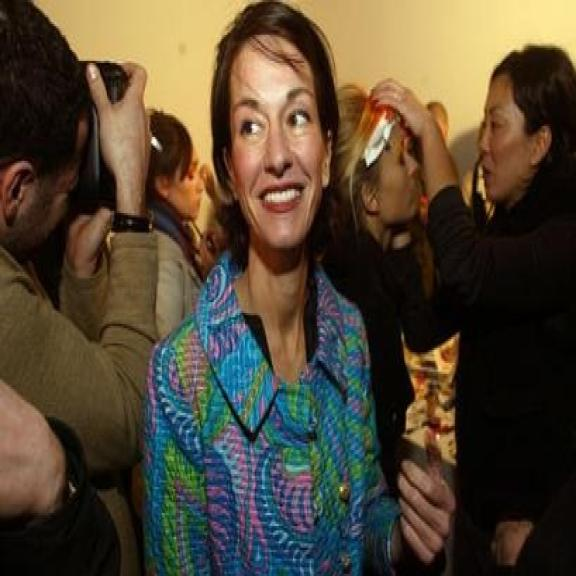face: (215, 36, 335, 255), (475, 71, 548, 209), (357, 117, 421, 237), (154, 124, 207, 225)
